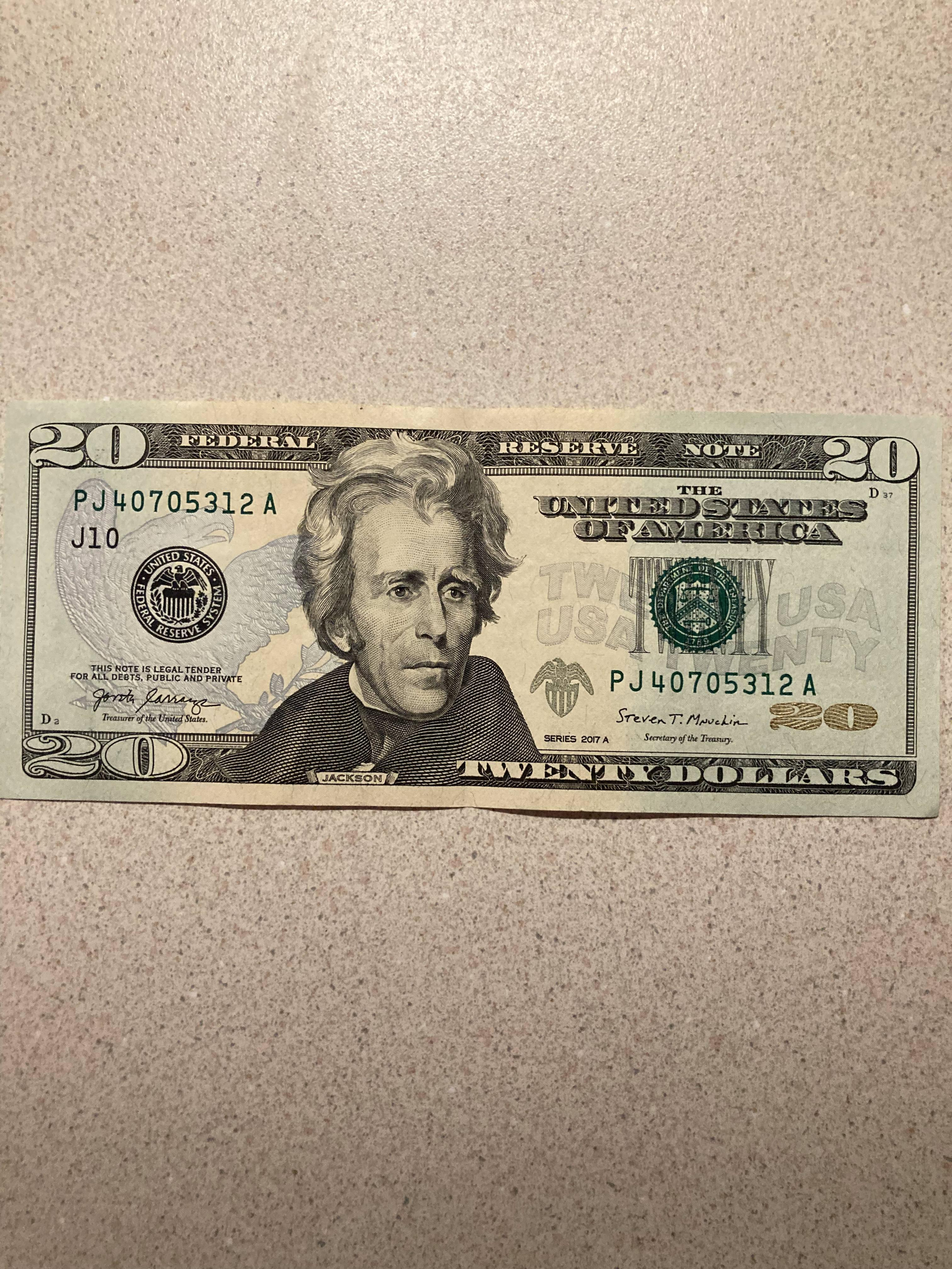twenty-front: (0, 400, 941, 819)
